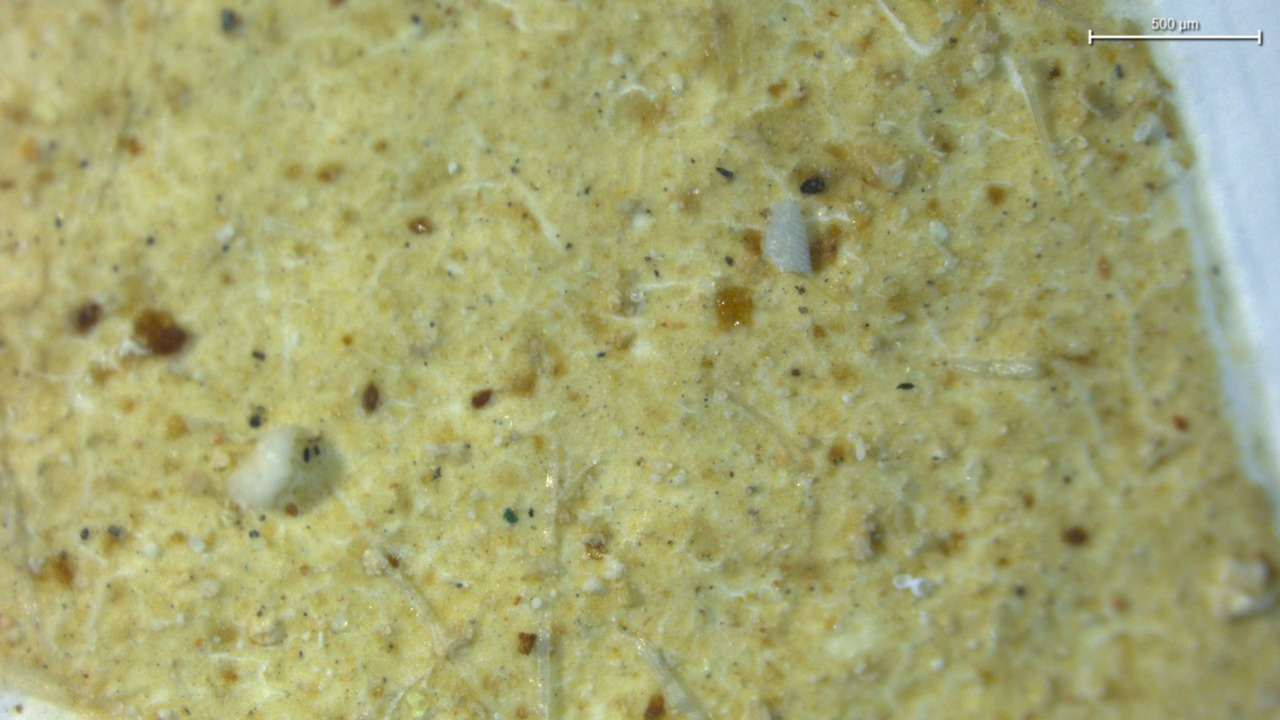microplastic_fragment: (227, 425, 295, 510)
